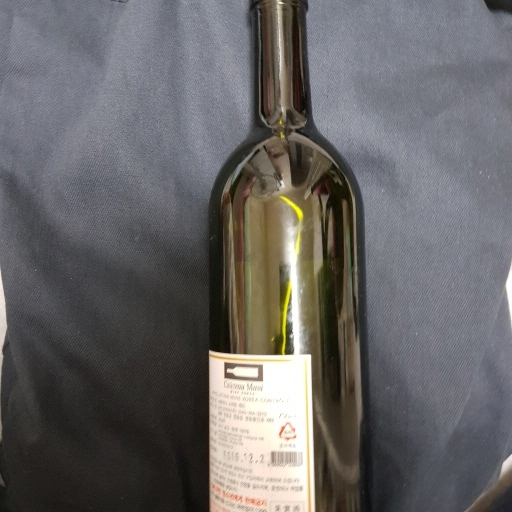Glass_2: (196, 1, 377, 512)
